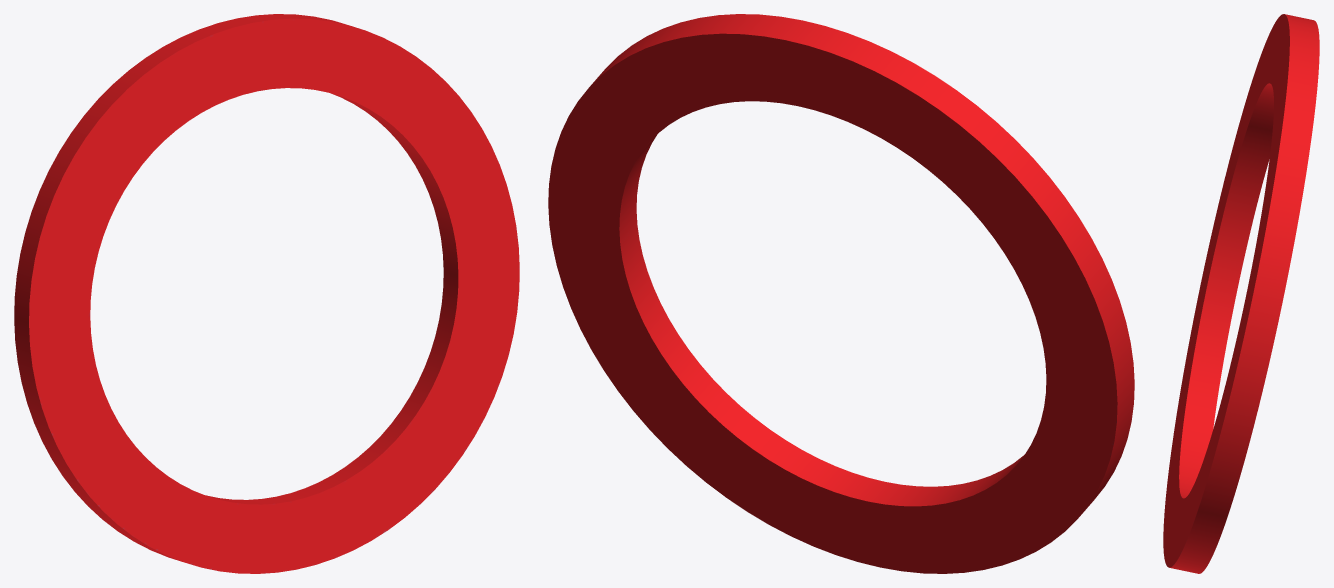
The model's file is offCursor.fbx.
The picture shows the model from 3 angles, left to right: view 1: azimuth 30°, elevation 25°; view 2: azimuth 150°, elevation 25°; view 3: azimuth 270°, elevation 25°; orthographic projection. The views are drawn at different scales.
Visible parts, largest first — view 1: root; view 2: root; view 3: root.
Part boxes in pixels (left/top/right/bottom): root: left=14, top=14, right=519, bottom=573; root: left=548, top=14, right=1134, bottom=573; root: left=1163, top=14, right=1319, bottom=573.
Size of the model in its own units: 0.3616 by 0.3568 by 0.1.
Materials: 1 (1 with a texture image).
